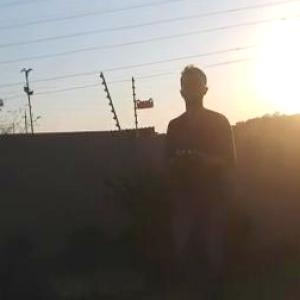follow: (160, 59, 244, 299)
